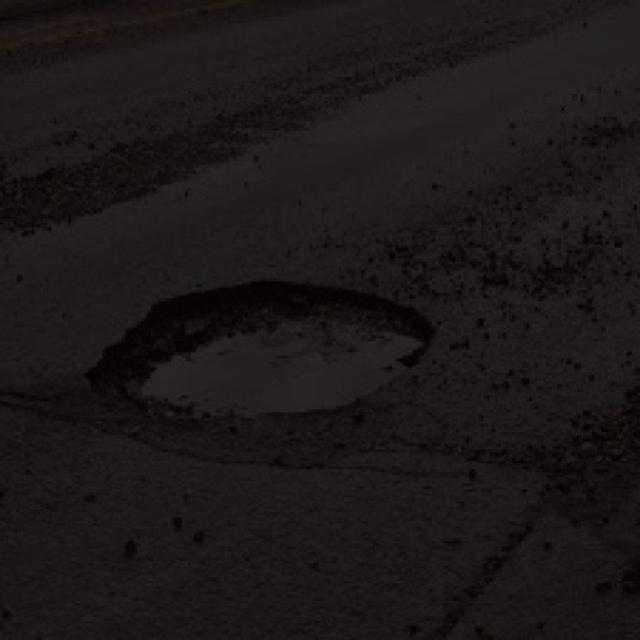Pothole: (74, 268, 456, 436)
